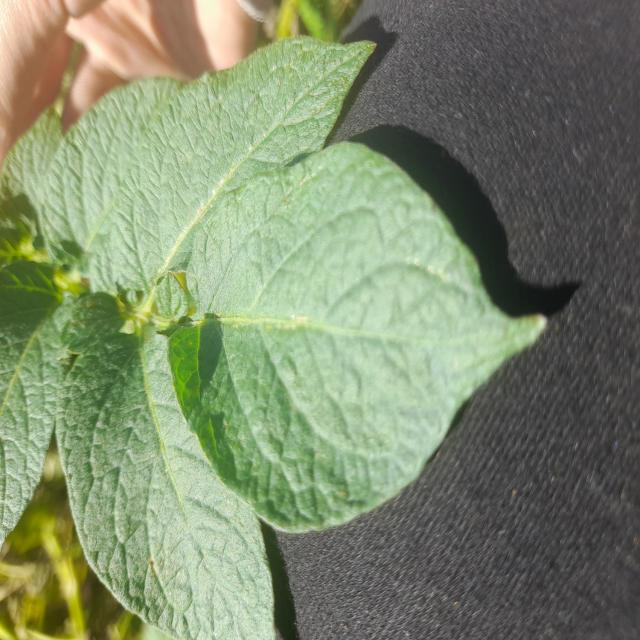healthy: (2, 33, 550, 637)
